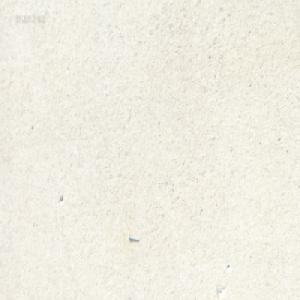Nail: (128, 234, 139, 242)
